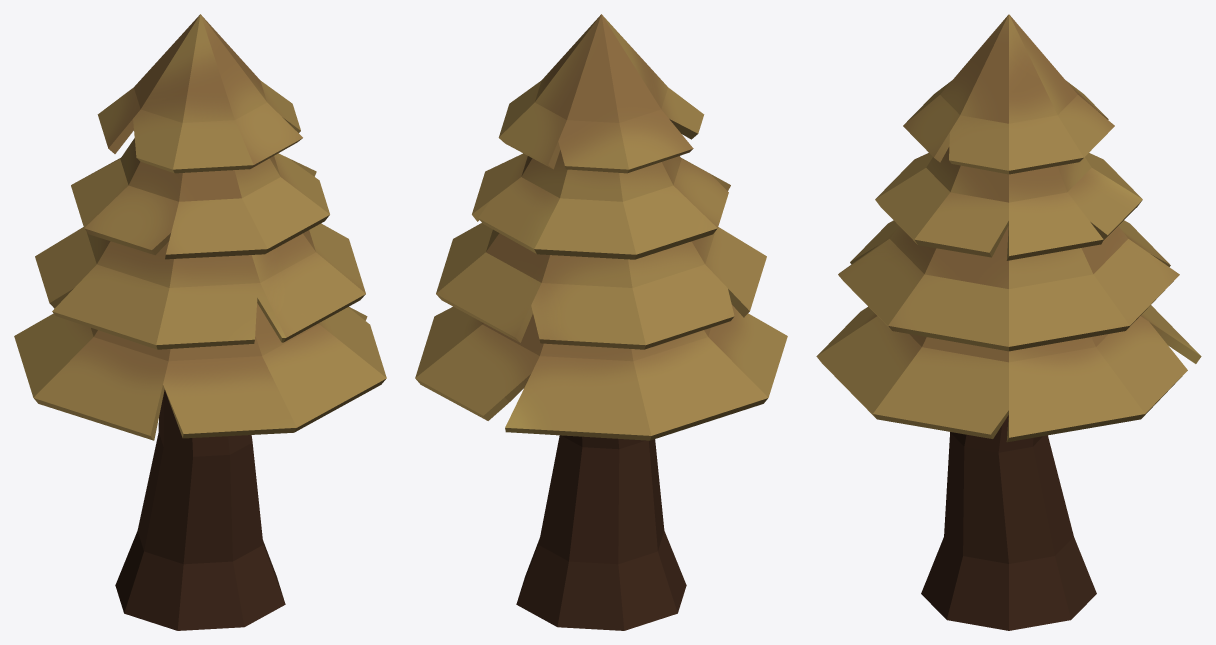
File: TallDeadTree.glb
3 renders of one model, left to right at view 1: azimuth 30°, elevation 25°; view 2: azimuth 150°, elevation 25°; view 3: azimuth 270°, elevation 25°, orthographic.
Parts seen in each view (by area): view 1: Cone.001, Cylinder; view 2: Cone.001, Cylinder; view 3: Cone.001, Cylinder.
Part boxes in pixels (left/top/right/bottom): Cone.001: left=14, top=14, right=386, bottom=440; Cylinder: left=115, top=390, right=285, bottom=630; Cone.001: left=415, top=14, right=787, bottom=440; Cylinder: left=516, top=435, right=686, bottom=630; Cone.001: left=816, top=14, right=1201, bottom=442; Cylinder: left=921, top=415, right=1096, bottom=630.
Size of the model in its own units: 5.96 by 9.9 by 5.96.
Materials: 2 (2 with a texture image).
